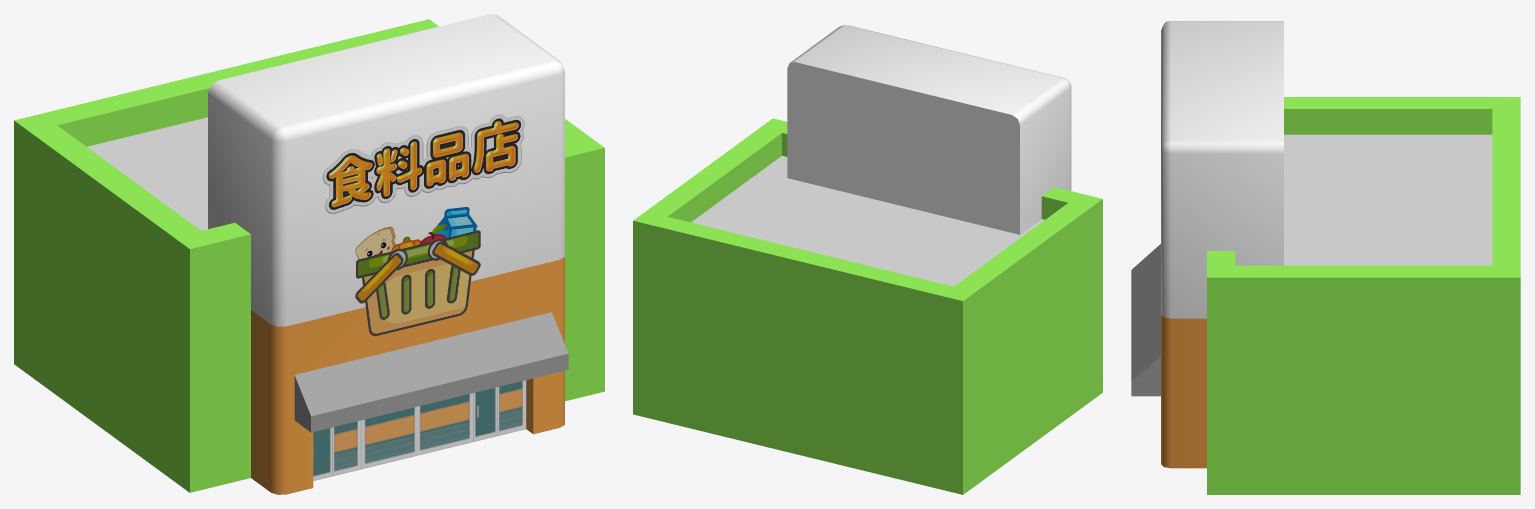
File: Town_Bld_GroceryStore_A.FBX
3 renders of one model, left to right at view 1: azimuth 30°, elevation 25°; view 2: azimuth 150°, elevation 25°; view 3: azimuth 270°, elevation 25°, orthographic. The views are drawn at different scales.
Visible parts, largest first — view 1: Town_Bld_GroceryStore_A; view 2: Town_Bld_GroceryStore_A; view 3: Town_Bld_GroceryStore_A.
Boxes of the visible parts, x1,y1,x2,y2 form: Town_Bld_GroceryStore_A: [14, 14, 604, 494]; Town_Bld_GroceryStore_A: [633, 25, 1102, 494]; Town_Bld_GroceryStore_A: [1131, 21, 1520, 494].
Bounding box in the file's own units: 970 × 837 × 884.
